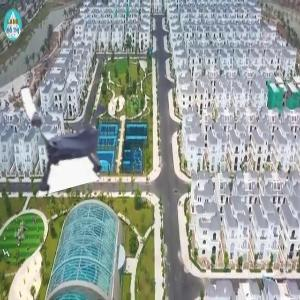drone: (19, 69, 135, 185)
